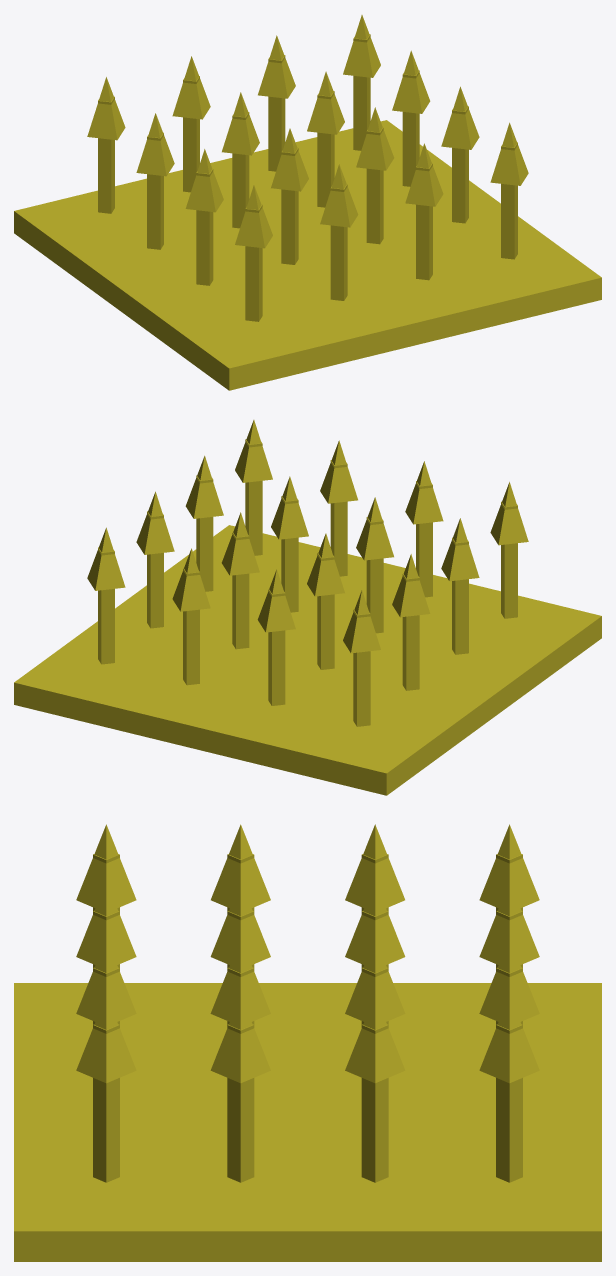
Rendered from grain_field.obj.
The picture shows the model from 3 angles, top to bottom: view 1: azimuth 30°, elevation 25°; view 2: azimuth 150°, elevation 25°; view 3: azimuth 270°, elevation 25°; orthographic projection. The views are drawn at different scales.
Bounding box in the file's own units: 0.35 × 0.15 × 0.35.
